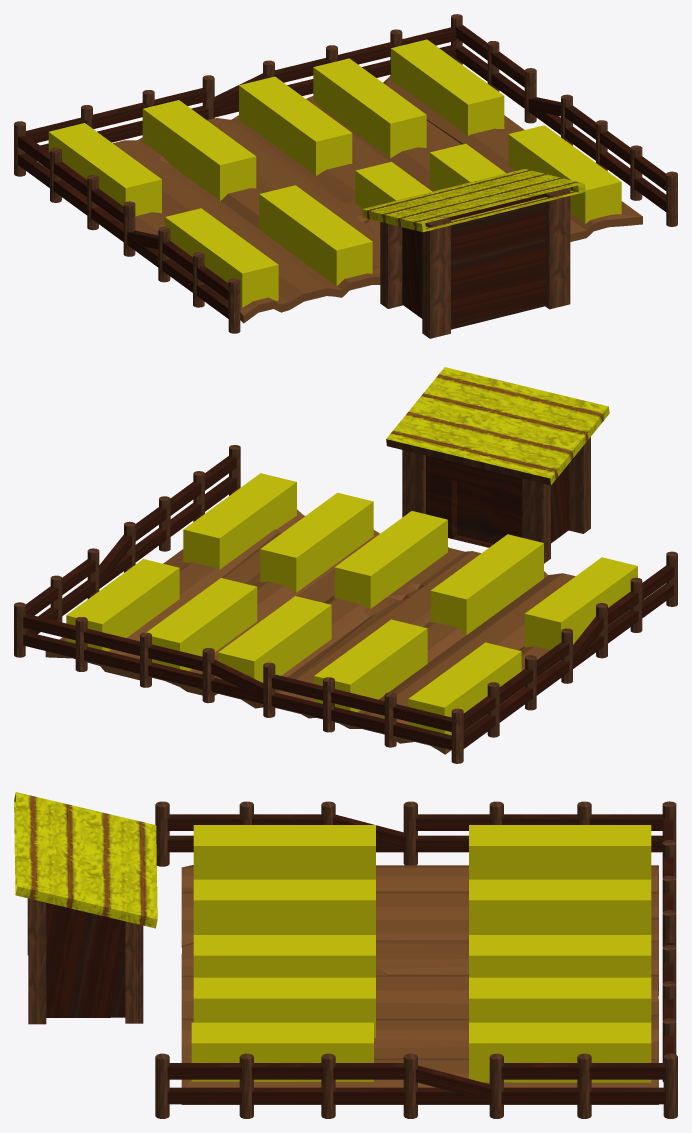
Rendered from Champdeblé.fbx.
3 renders of one model, top to bottom at view 1: azimuth 30°, elevation 25°; view 2: azimuth 150°, elevation 25°; view 3: azimuth 270°, elevation 25°, orthographic. The views are drawn at different scales.
Parts seen in each view (by area): view 1: Ground, Cube.007, Cube.016, Cube.015, Cube.011, Cube.014, Cube.010, Cube.005, Cube.017, Cube.008, Cube.018, Cube.004 (+19 smaller); view 2: Ground, Cube.005, Cube.007, Cube.016, Cube.012, Cube.013, Cube.008, Cube.022, Cube.014, Cube.015, Cube.011, Cube.010 (+24 smaller); view 3: Ground, Cube.005, Cube.016, Cube.015, Cube.018, Cube.017, Cube.007, Cube.012, Cube.011, Cube.010, Cube.014, Cube.013 (+23 smaller).
Part boxes in pixels (bbox=[...]): Ground: bbox=[43, 75, 642, 323]; Cube.007: bbox=[402, 194, 545, 329]; Cube.016: bbox=[259, 185, 372, 286]; Cube.015: bbox=[142, 100, 256, 200]; Cube.011: bbox=[313, 58, 426, 158]; Cube.014: bbox=[239, 76, 352, 175]; Cube.010: bbox=[391, 39, 504, 135]; Cube.005: bbox=[362, 169, 585, 232]; Cube.017: bbox=[165, 208, 278, 307]; Cube.008: bbox=[508, 125, 621, 223]; Cube.018: bbox=[48, 123, 161, 216]; Cube.004: bbox=[422, 218, 450, 338]; Ground: bbox=[45, 509, 643, 754]; Cube.005: bbox=[386, 367, 609, 484]; Cube.007: bbox=[426, 455, 569, 547]; Cube.016: bbox=[430, 534, 543, 635]; Cube.012: bbox=[260, 492, 373, 592]; Cube.013: bbox=[334, 511, 447, 608]; Cube.008: bbox=[183, 473, 296, 569]; Cube.022: bbox=[23, 631, 451, 749]; Cube.014: bbox=[218, 596, 331, 682]; Cube.015: bbox=[314, 619, 427, 712]; Cube.011: bbox=[146, 578, 257, 671]; Cube.010: bbox=[66, 559, 179, 651]; Ground: bbox=[181, 865, 658, 1104]; Cube.005: bbox=[14, 792, 157, 928]; Cube.016: bbox=[193, 879, 375, 934]; Cube.015: bbox=[469, 879, 651, 934]; Cube.018: bbox=[469, 825, 651, 879]; Cube.017: bbox=[193, 825, 375, 879]; Cube.007: bbox=[46, 902, 125, 1017]; Cube.012: bbox=[193, 977, 375, 1037]; Cube.011: bbox=[469, 977, 651, 1022]; Cube.010: bbox=[469, 1022, 651, 1082]; Cube.014: bbox=[469, 935, 651, 977]; Cube.013: bbox=[193, 935, 375, 977].
Size of the model in its own units: 882 by 235 by 959.
Materials: 5 (3 with a texture image).
